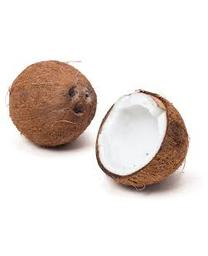coconut: (96, 88, 190, 189), (9, 59, 97, 149)
